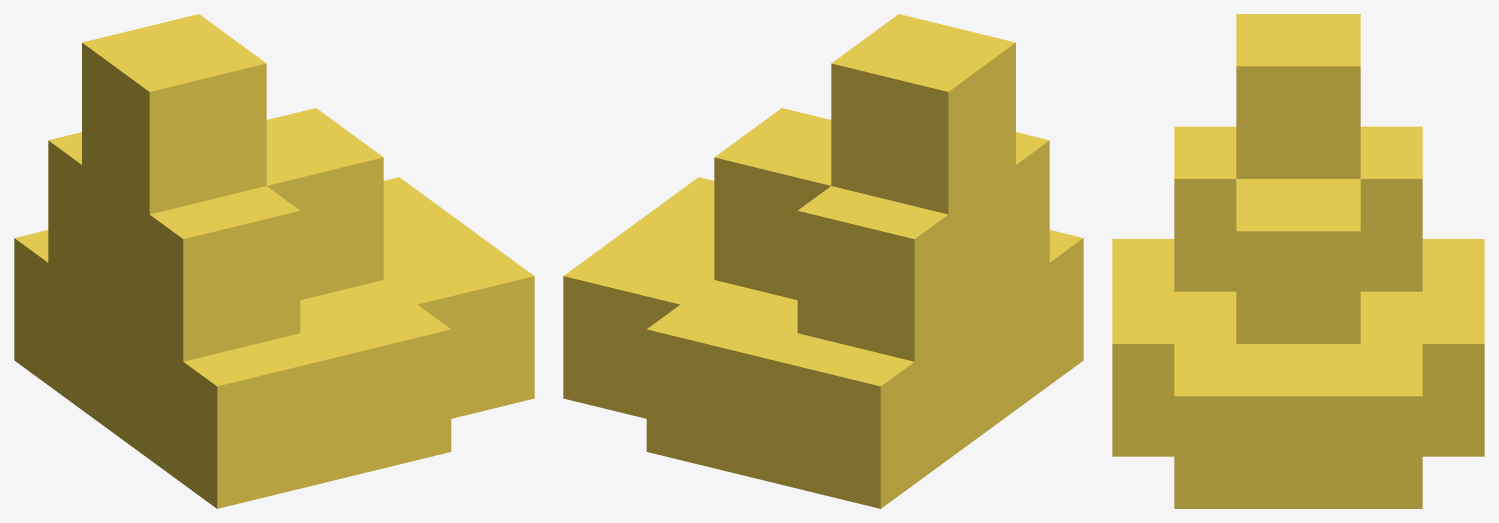
Rendered from gold-fragment.obj.
3 views of the same model, side by side, from view 1: azimuth 30°, elevation 25°; view 2: azimuth 150°, elevation 25°; view 3: azimuth 270°, elevation 25° (orthographic). The views are drawn at different scales.
Size of the model in its own units: 3 by 3 by 3.
Materials: 1 (1 with a texture image).
